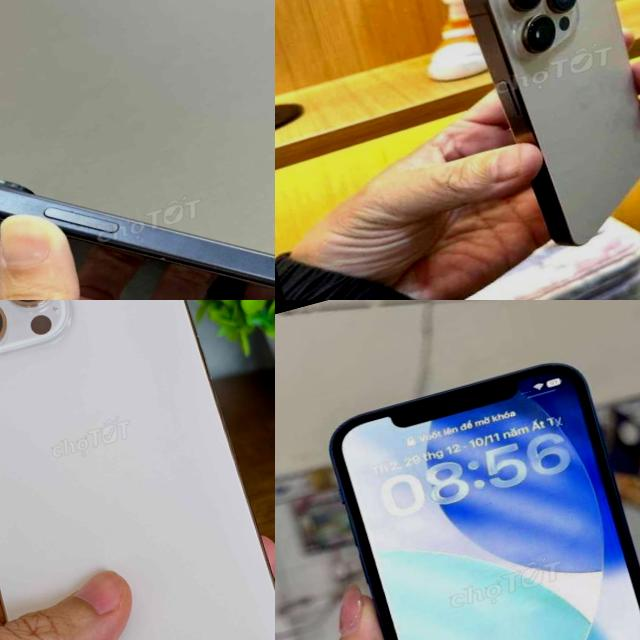gen_12_13: (312, 347, 640, 640)
gen_15: (0, 3, 275, 300)
gen_16: (0, 300, 275, 640), (437, 0, 640, 278)
